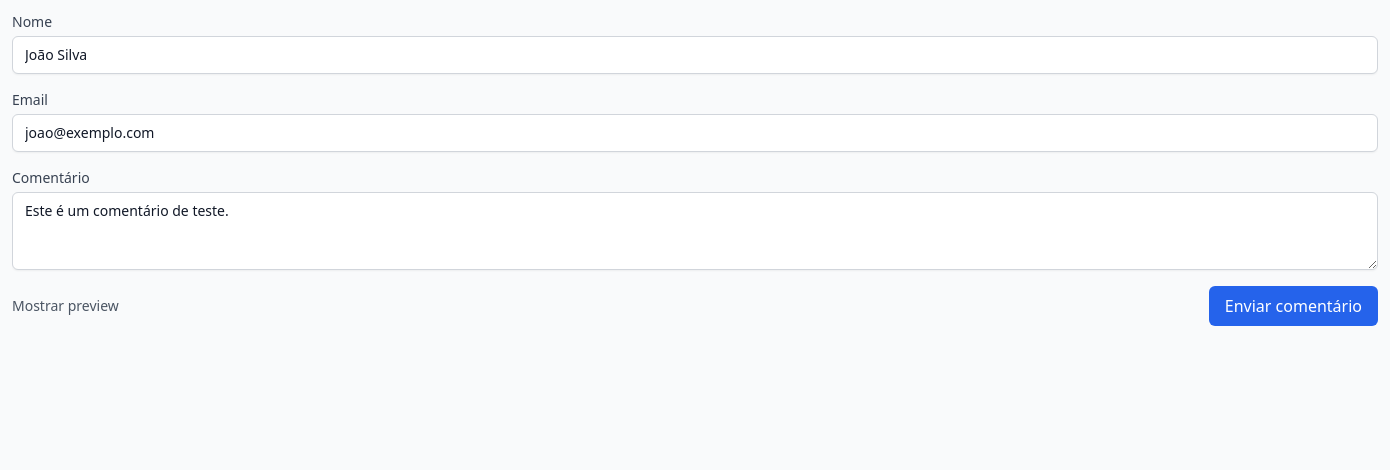
CommentForm › mostra preview do comentário
Click the button "Mostrar preview": (65, 306) [12,296,119,316]
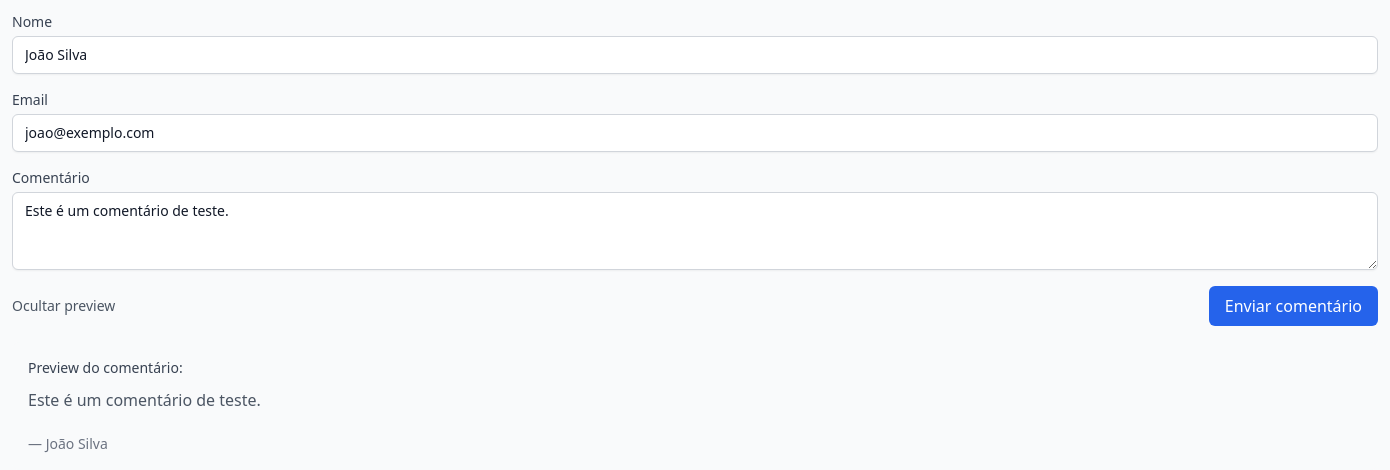
Check: the heading "Preview do comentário:" is shown, box [28,358,183,377]
Check: the text "Este é um comentário de teste." is shown, box [28,389,261,411]
